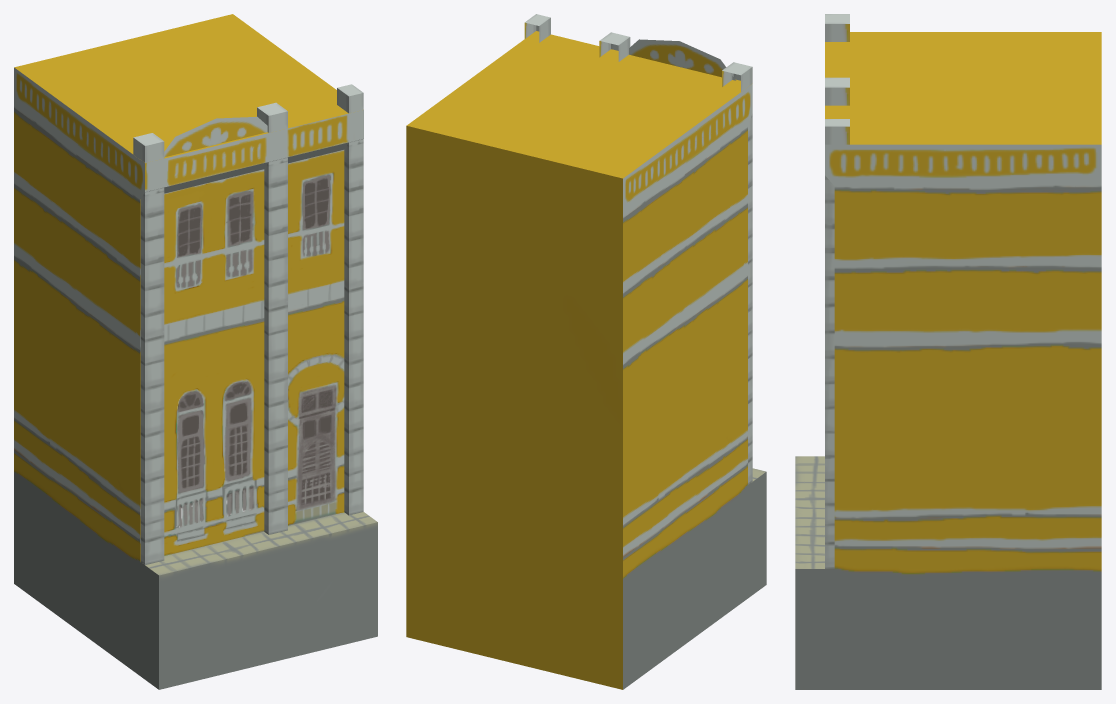
The model's file is Predio_Antigo_4.glb.
3 renders of one model, left to right at view 1: azimuth 30°, elevation 25°; view 2: azimuth 150°, elevation 25°; view 3: azimuth 270°, elevation 25°, orthographic. The views are drawn at different scales.
Parts seen in each view (by area): view 1: Predio_Antigo_4; view 2: Predio_Antigo_4; view 3: Predio_Antigo_4.
Part boxes in pixels (left/top/right/bottom): Predio_Antigo_4: left=14, top=14, right=377, bottom=689; Predio_Antigo_4: left=406, top=14, right=766, bottom=689; Predio_Antigo_4: left=795, top=14, right=1101, bottom=689.
Bounding box in the file's own units: 2 × 4.74 × 2.29.
1 material, 1 textured.
